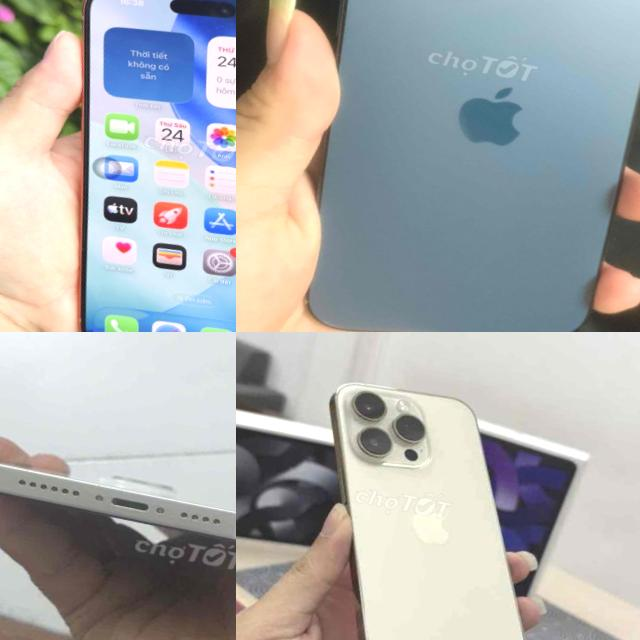gen_12_13: (270, 0, 640, 332)
gen_14: (275, 358, 584, 640), (0, 433, 236, 578)
gen_17: (6, 0, 236, 332)
